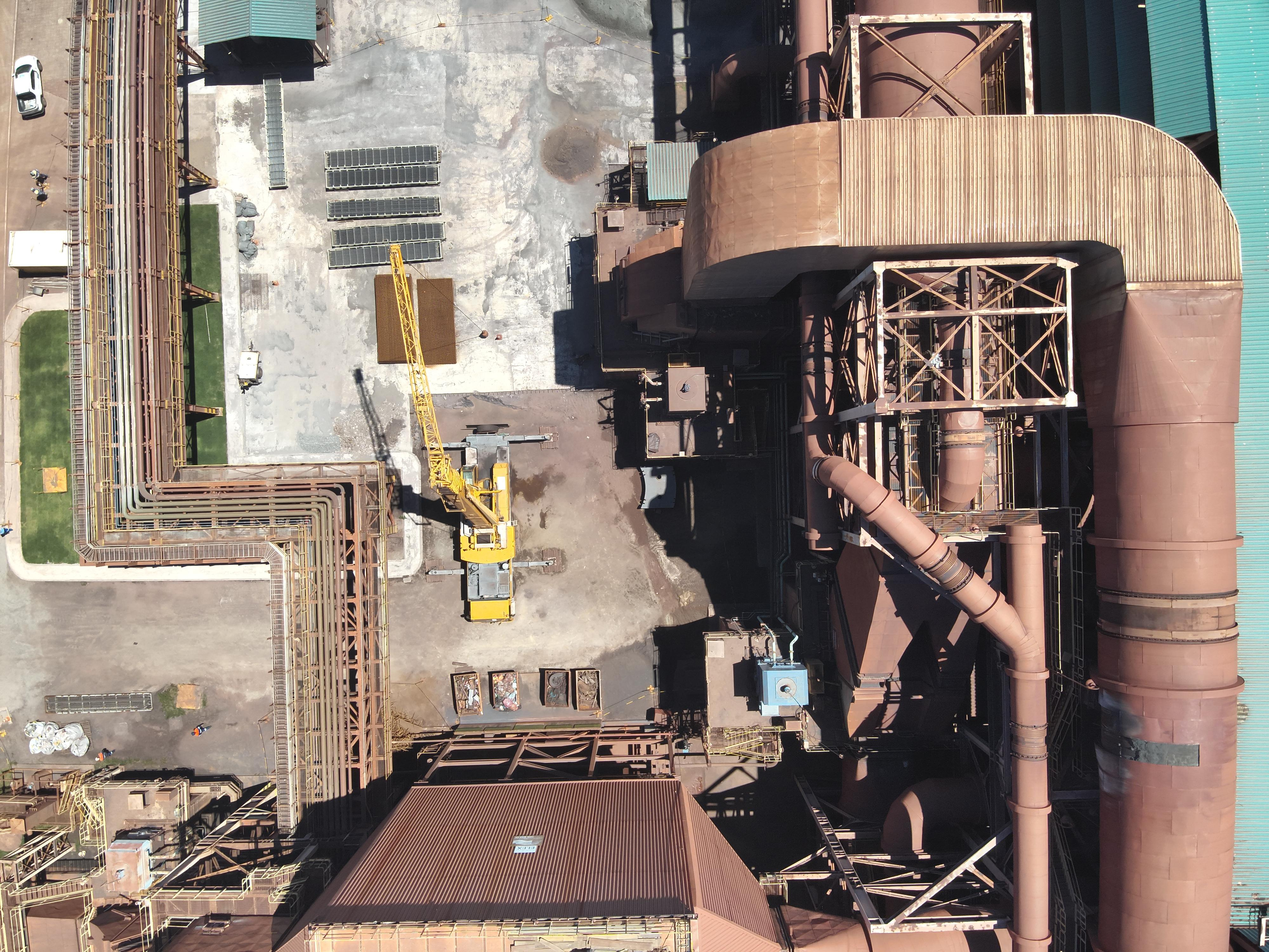Failures: (1093, 708, 1201, 774)
